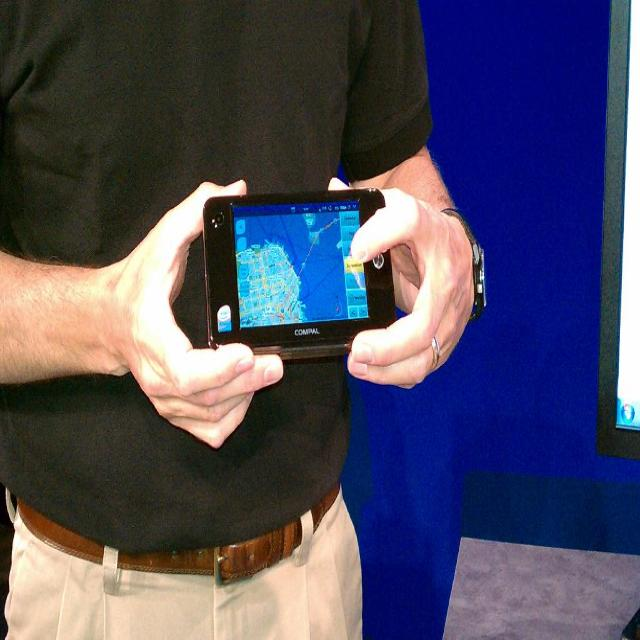Mobile-phone: (171, 178, 380, 376)
